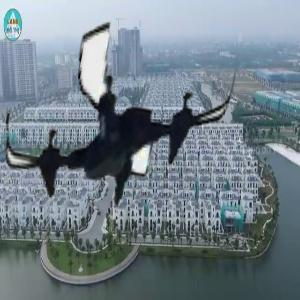drone: (6, 15, 227, 236)
